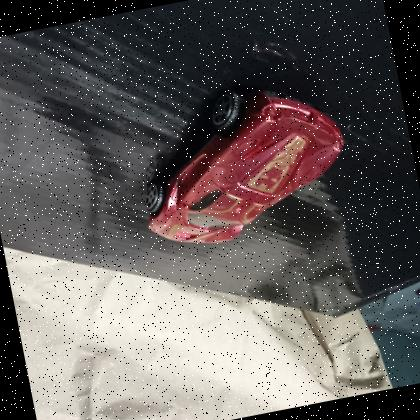Car: (145, 88, 345, 243)
